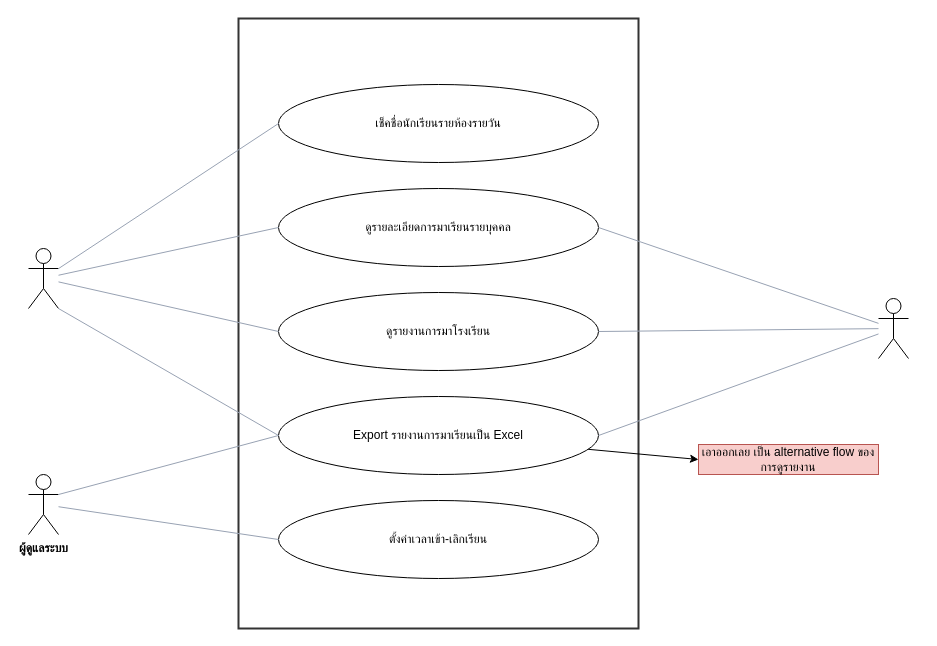
Some shapes in this 937 by 646 pixel diagram are drawn without their labels. Each missing label, with the box of its shape:
การมาเรียนของนักเรียน: (237, 17, 639, 629)
ครูประจำชั้น: (28, 248, 58, 308)
ฝ่ายปกครอง: (878, 298, 908, 358)
